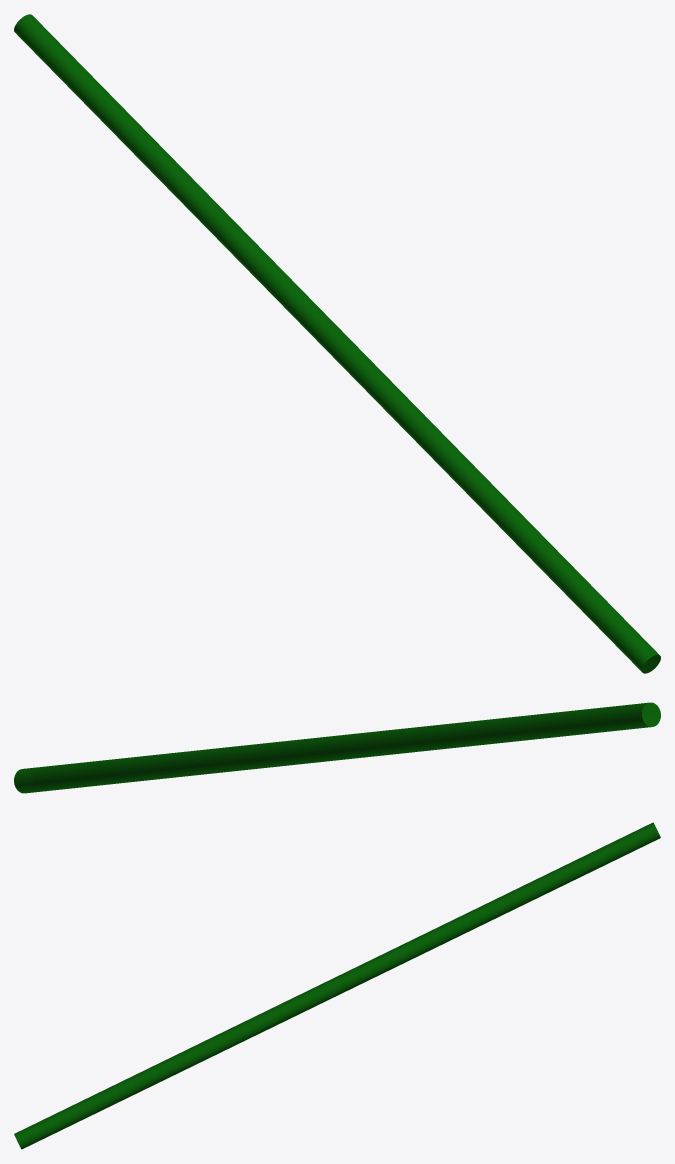
File: Event_191826238_jet_1.fbx
3 views of the same model, one above another, from view 1: azimuth 30°, elevation 25°; view 2: azimuth 210°, elevation 25°; view 3: azimuth 270°, elevation 25° (orthographic). The views are drawn at different scales.
Parts seen in each view (by area): view 1: Model; view 2: Model; view 3: Model.
Part boxes in pixels (left/top/right/bottom): Model: left=14, top=14, right=660, bottom=673; Model: left=14, top=702, right=660, bottom=793; Model: left=14, top=822, right=660, bottom=1149.
Bounding box in the file's own units: 0.3706 × 0.6701 × 1.48.
